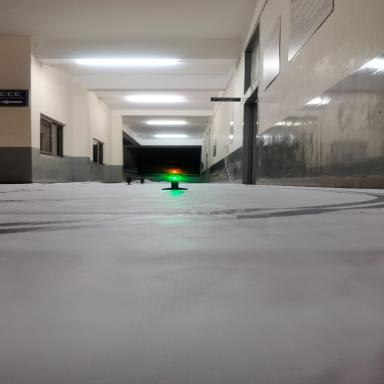green: (156, 164, 214, 202)
